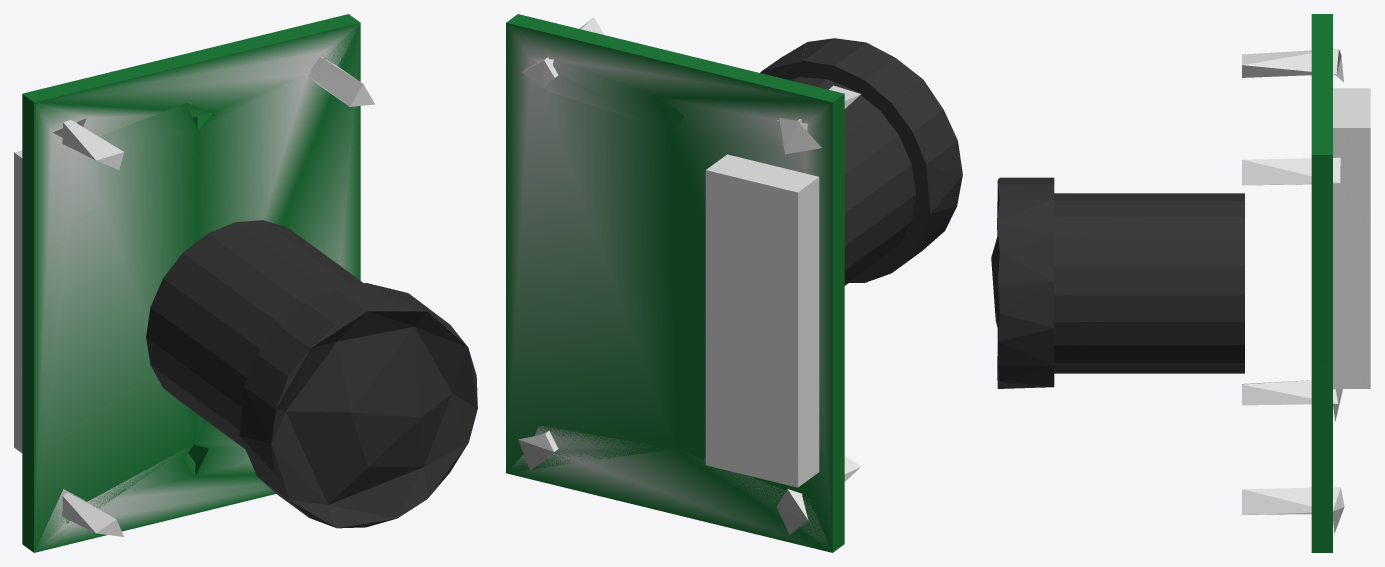
File: vi_camera.dae
The picture shows the model from 3 angles, left to right: view 1: azimuth 30°, elevation 25°; view 2: azimuth 150°, elevation 25°; view 3: azimuth 270°, elevation 25°; orthographic projection. The views are drawn at different scales.
Visible parts, largest first — view 1: node; view 2: node; view 3: node.
Boxes of the visible parts, <box> form: node: <box>14,14,477,552</box>; node: <box>506,14,962,552</box>; node: <box>991,14,1370,552</box>.
Bounding box in the file's own units: 0.022 × 0.029 × 0.0251.
1 material, 1 textured.
